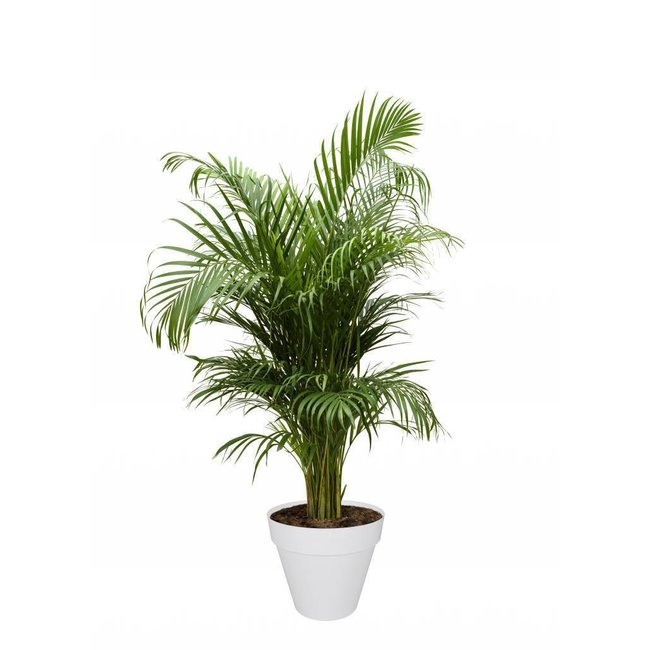plant: (137, 90, 464, 621)
